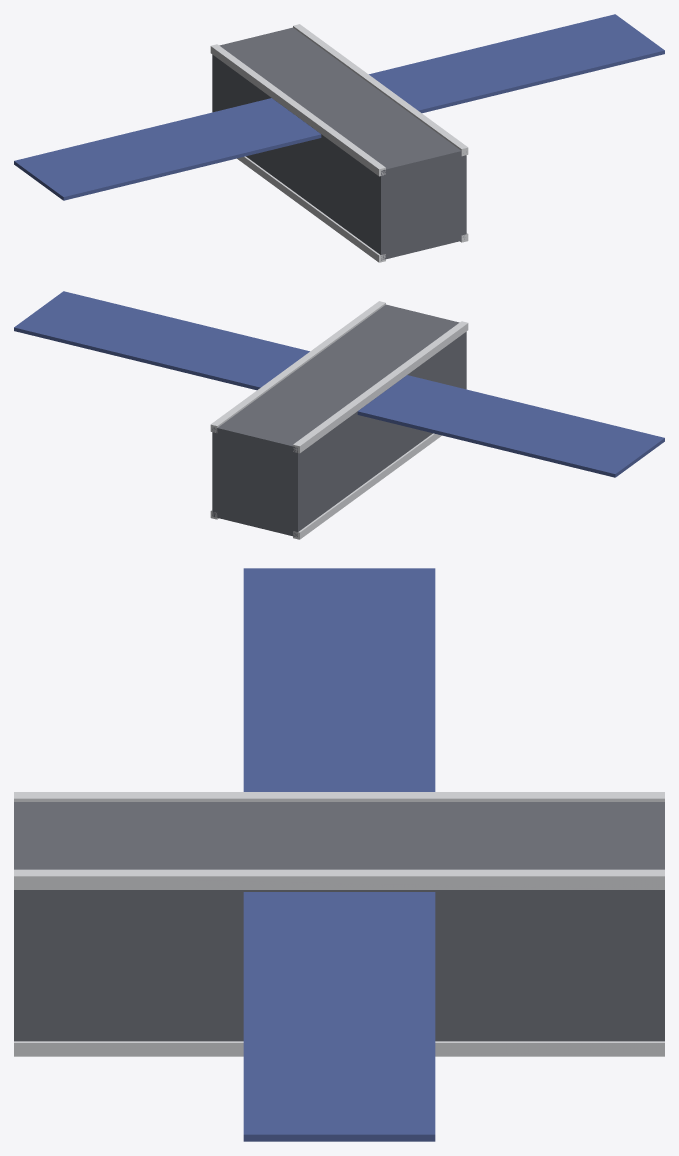
File: cubesat_3u.glb
The picture shows the model from 3 angles, top to bottom: view 1: azimuth 30°, elevation 25°; view 2: azimuth 150°, elevation 25°; view 3: azimuth 270°, elevation 25°; orthographic projection. The views are drawn at different scales.
Visible parts, largest first — view 1: cubesat_3u; view 2: cubesat_3u; view 3: cubesat_3u.
Part boxes in pixels (x1,y1,x2,y2): cubesat_3u: [14, 14, 664, 262]; cubesat_3u: [14, 291, 664, 539]; cubesat_3u: [14, 568, 664, 1141].
Bounding box in the file's own units: 0.7 × 0.106 × 0.34.
